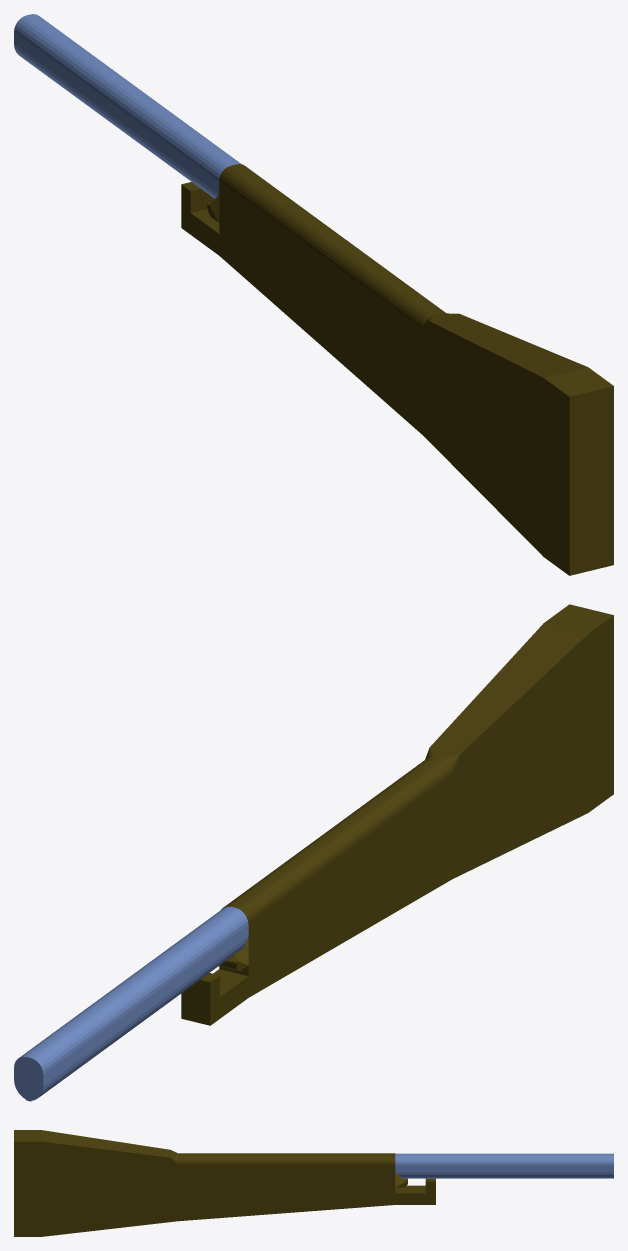
File: musket.fbx
The picture shows the model from 3 angles, top to bottom: view 1: azimuth 30°, elevation 25°; view 2: azimuth 150°, elevation 25°; view 3: azimuth 270°, elevation 25°; orthographic projection. The views are drawn at different scales.
Parts seen in each view (by area): view 1: Cube; view 2: Cube; view 3: Cube.
Part boxes in pixels (bbox=[...]): Cube: bbox=[14, 14, 613, 575]; Cube: bbox=[14, 604, 613, 1101]; Cube: bbox=[14, 1130, 613, 1236].
Bounding box in the file's own units: 200 × 769 × 4384.
